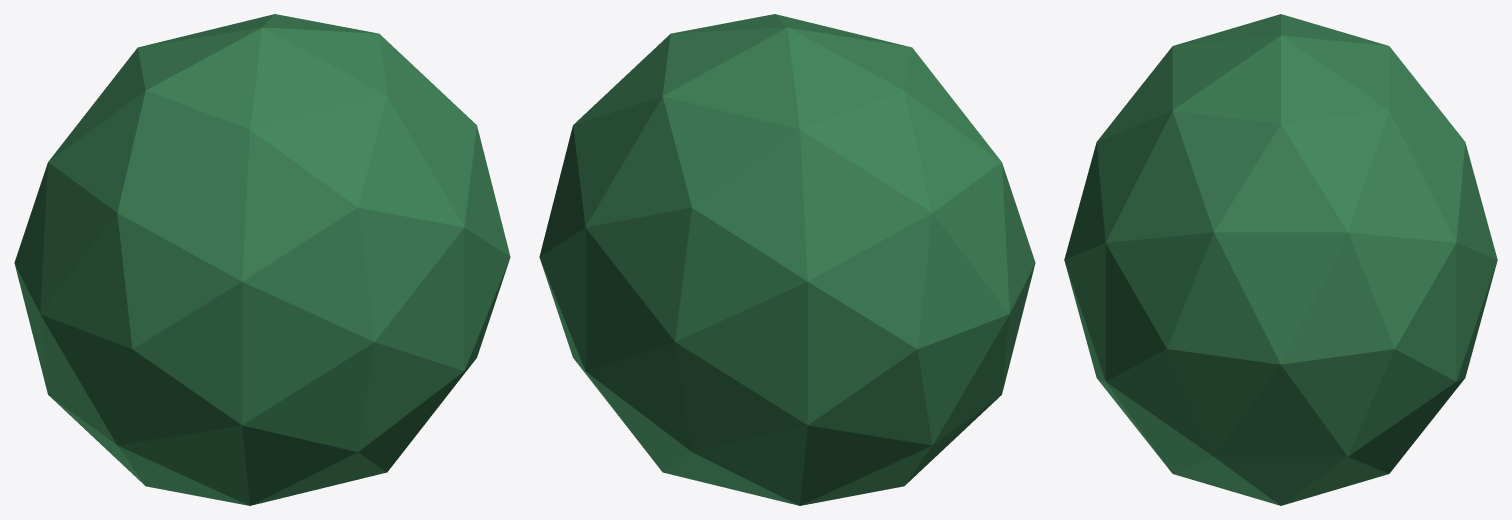
The model's file is Buisson.fbx.
3 views of the same model, side by side, from view 1: azimuth 30°, elevation 25°; view 2: azimuth 150°, elevation 25°; view 3: azimuth 270°, elevation 25° (orthographic). The views are drawn at different scales.
Parts seen in each view (by area): view 1: Buisson; view 2: Buisson; view 3: Buisson.
Boxes of the visible parts, box(x1,y1,x2,y2) form: Buisson: box(14, 14, 510, 505); Buisson: box(539, 14, 1035, 505); Buisson: box(1064, 14, 1497, 505).
Size of the model in its own units: 80 by 80 by 70.
